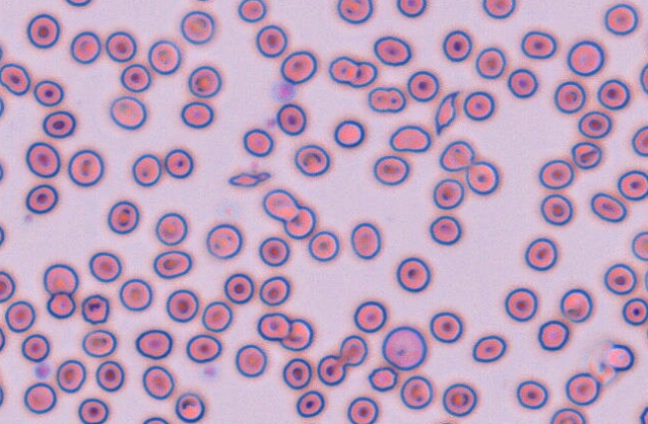PLT: (271, 81, 294, 103), (35, 362, 54, 380), (200, 363, 220, 380)
RBC: (381, 325, 427, 370), (328, 55, 377, 87), (67, 148, 104, 187), (566, 39, 604, 76), (205, 223, 242, 259), (109, 95, 147, 130), (25, 141, 60, 178), (279, 50, 317, 84), (441, 382, 477, 417), (395, 256, 430, 292), (262, 188, 299, 222), (152, 249, 192, 279), (465, 160, 499, 195), (565, 372, 600, 406), (559, 288, 593, 323), (26, 13, 60, 48), (147, 39, 181, 74), (294, 143, 330, 176), (373, 35, 411, 66), (389, 124, 431, 152), (399, 375, 433, 409), (165, 288, 199, 322), (180, 10, 214, 44), (141, 365, 174, 400), (135, 328, 172, 359), (350, 222, 381, 259), (283, 205, 316, 239), (280, 317, 313, 351), (118, 278, 152, 311), (504, 287, 537, 321), (524, 237, 557, 271), (187, 65, 221, 98), (43, 263, 78, 295), (373, 154, 409, 185), (185, 333, 222, 363), (590, 192, 627, 222), (367, 85, 406, 113), (234, 344, 267, 377), (353, 300, 386, 333), (154, 212, 187, 245), (429, 311, 463, 343), (604, 3, 638, 35), (69, 30, 101, 64), (107, 200, 139, 234), (439, 140, 474, 171), (538, 159, 574, 189), (23, 382, 56, 414), (603, 263, 636, 295), (255, 24, 287, 57), (406, 70, 439, 102), (540, 193, 573, 225), (553, 80, 585, 113), (597, 78, 630, 110), (55, 359, 86, 393), (520, 30, 556, 59), (537, 319, 569, 351), (88, 251, 121, 282), (25, 183, 58, 214), (275, 102, 306, 135), (256, 312, 291, 341), (201, 300, 232, 332), (4, 300, 35, 332), (432, 178, 464, 209), (307, 230, 339, 261), (223, 272, 254, 304), (105, 30, 136, 62), (0, 62, 30, 95), (428, 215, 461, 245), (475, 46, 505, 79), (442, 29, 472, 62), (131, 153, 161, 186), (472, 334, 506, 363), (81, 329, 116, 357), (577, 110, 612, 138), (174, 392, 205, 423), (259, 275, 290, 306), (338, 334, 368, 366), (316, 354, 346, 386), (282, 357, 312, 389), (258, 236, 290, 266), (516, 379, 548, 409), (462, 90, 494, 120), (42, 110, 76, 138), (617, 169, 647, 200), (242, 127, 273, 157), (507, 68, 538, 98), (95, 360, 124, 392), (333, 119, 365, 148), (180, 100, 213, 128), (120, 63, 151, 92), (336, 0, 373, 24), (587, 354, 616, 384), (164, 148, 193, 178), (81, 293, 109, 324), (346, 396, 378, 423), (21, 333, 50, 362), (604, 343, 634, 371), (46, 291, 76, 319), (295, 390, 325, 418), (571, 141, 601, 169), (33, 79, 64, 106), (77, 397, 109, 423), (367, 366, 398, 391), (621, 297, 647, 325), (237, 0, 266, 22), (482, 0, 515, 19), (549, 407, 586, 423), (396, 0, 426, 17), (631, 125, 647, 156), (0, 270, 15, 302), (631, 231, 647, 261), (639, 62, 648, 94), (141, 416, 169, 424), (64, 0, 92, 7), (639, 406, 647, 423), (0, 326, 5, 352), (643, 268, 648, 293), (0, 223, 5, 247), (0, 159, 4, 183), (0, 95, 4, 119), (0, 384, 4, 407), (644, 323, 648, 345), (432, 421, 456, 424), (0, 43, 3, 62), (188, 0, 215, 2)
Schistocyte: (436, 91, 458, 135), (228, 171, 270, 189)
